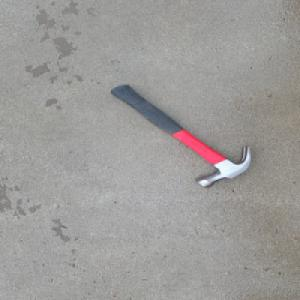Hammer: (108, 83, 253, 188)
